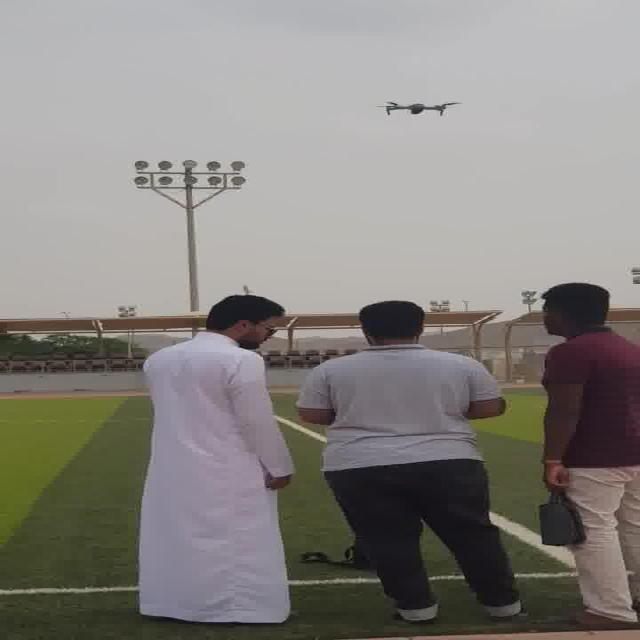drone: (379, 96, 456, 120)
